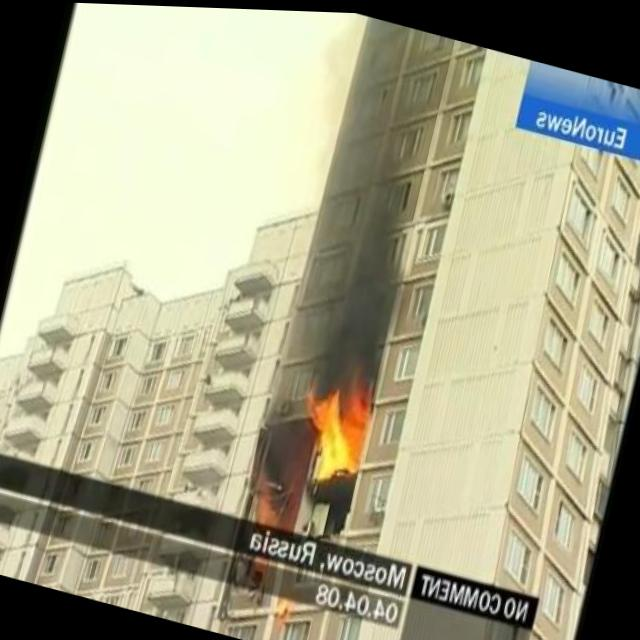fire: (290, 372, 378, 481), (244, 483, 292, 528)
